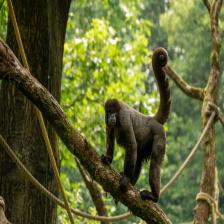monkey: (100, 72, 172, 210)
